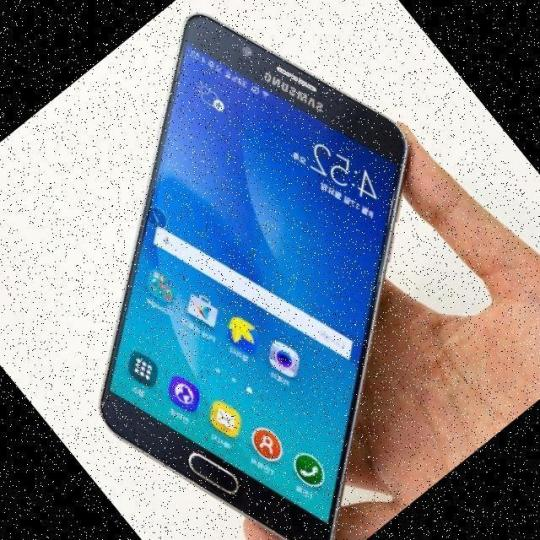phone: (93, 10, 413, 540)
